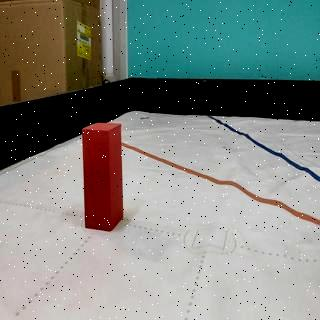redbox: (82, 120, 124, 232)
